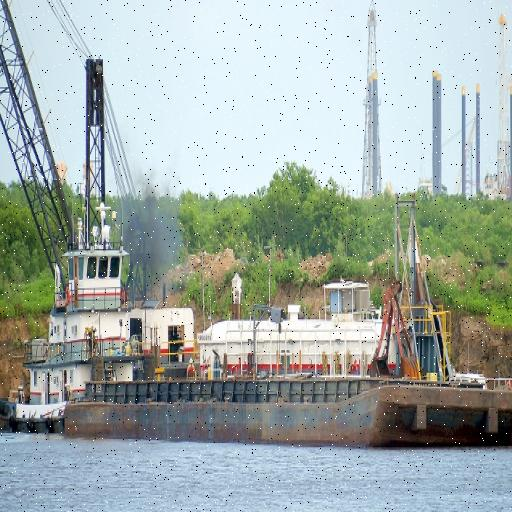tugboat: (1, 199, 196, 444)
